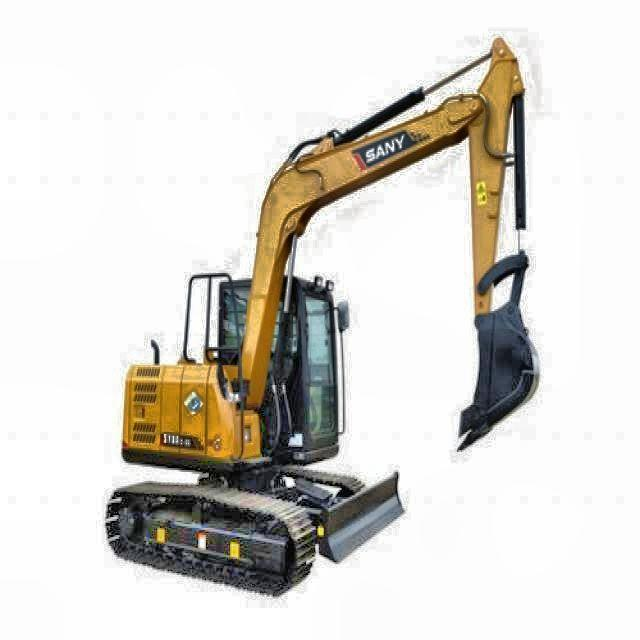excavator: (104, 33, 540, 600)
